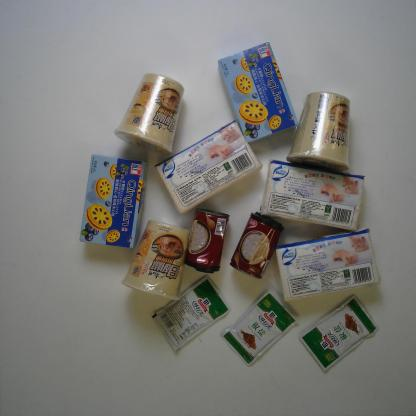Canned Food: (227, 210, 288, 281), (180, 204, 233, 276)
Dessert: (215, 39, 300, 145), (76, 153, 151, 252)
Instant Noodles: (120, 218, 193, 303), (283, 88, 354, 175), (114, 71, 186, 156)
Seasoner: (296, 292, 382, 374), (217, 287, 299, 367), (150, 273, 230, 353)
Tissue: (152, 117, 264, 215), (272, 225, 386, 303), (257, 157, 369, 234)
